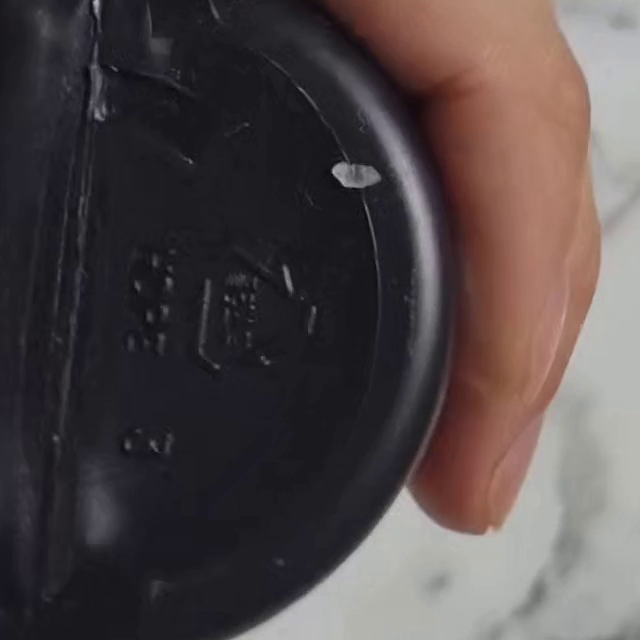Plastic: (186, 241, 315, 378)
